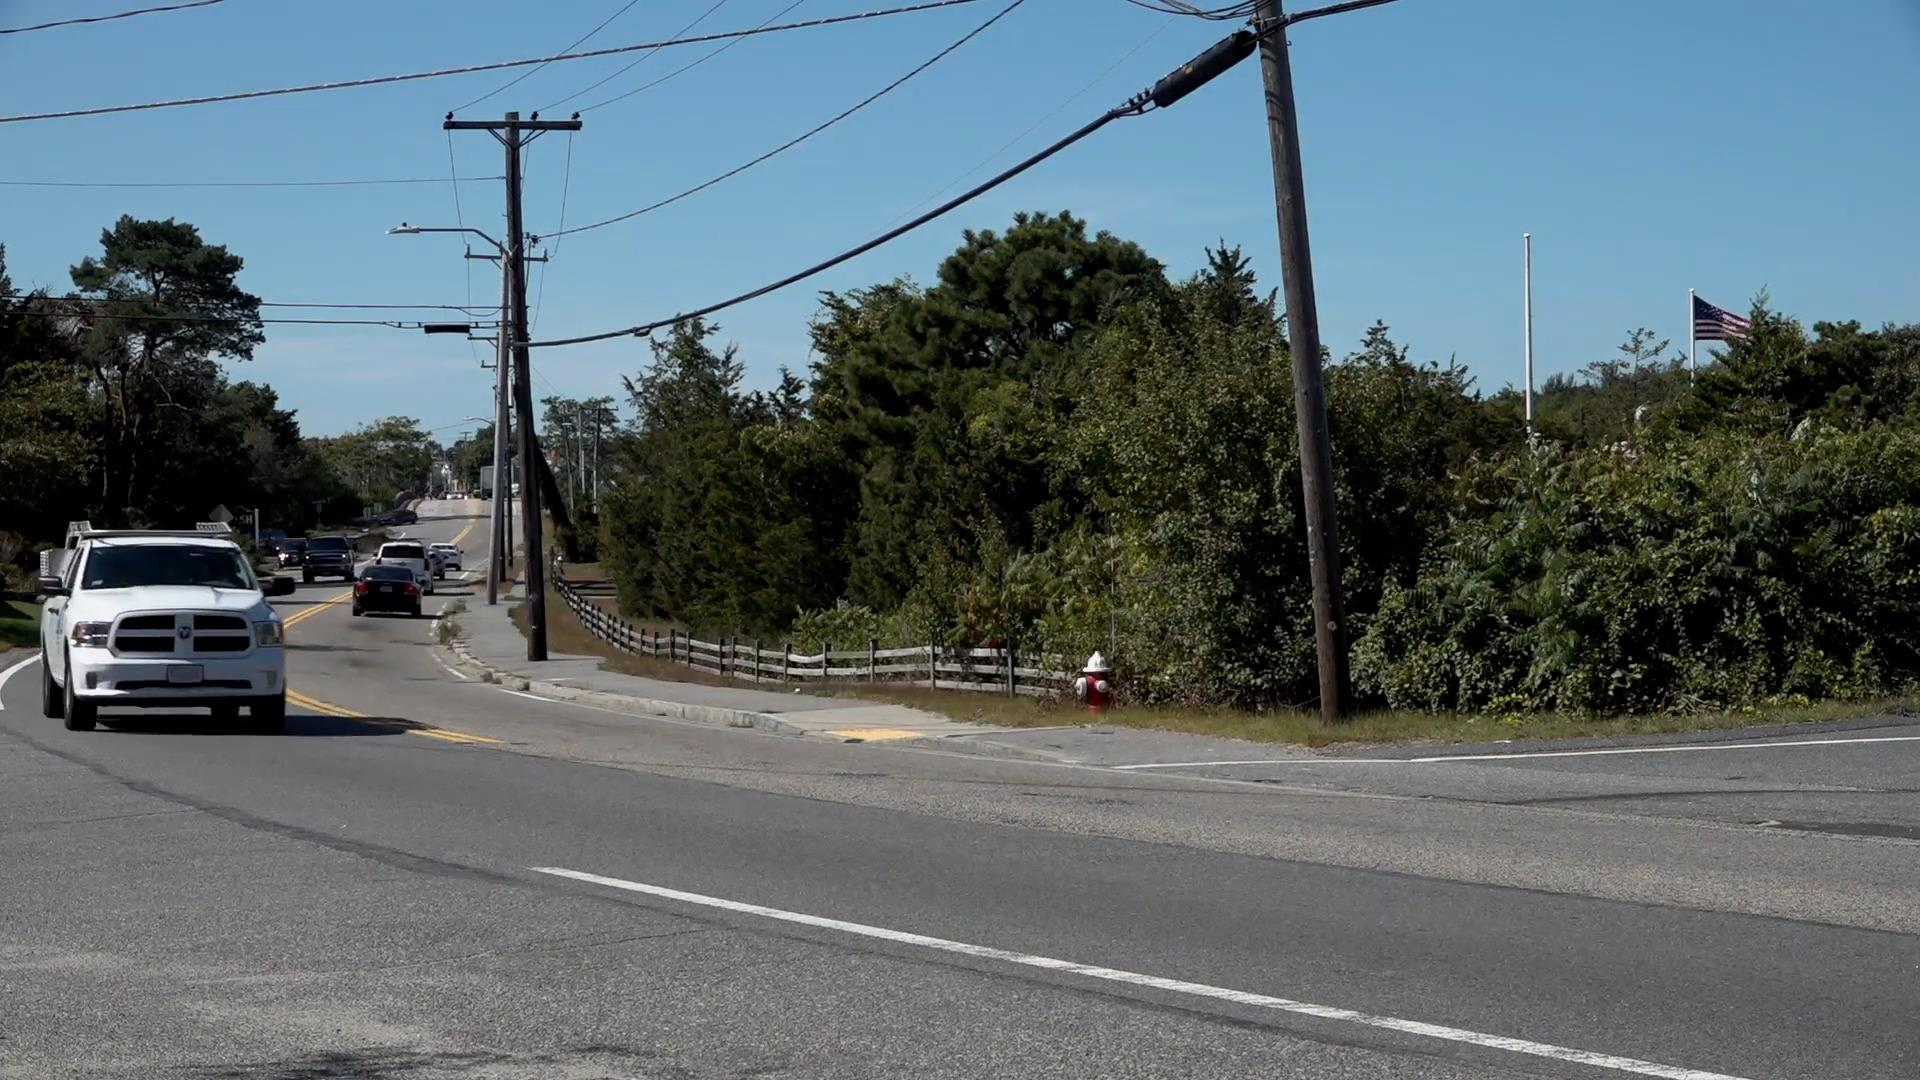pickup: (38, 526, 297, 728)
